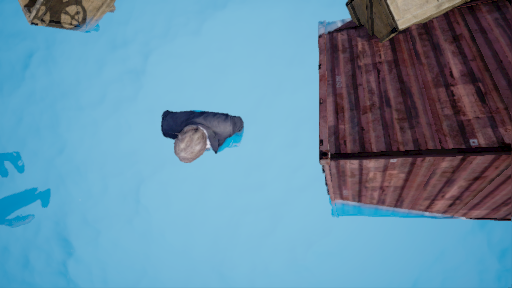person: (152, 106, 250, 165)
